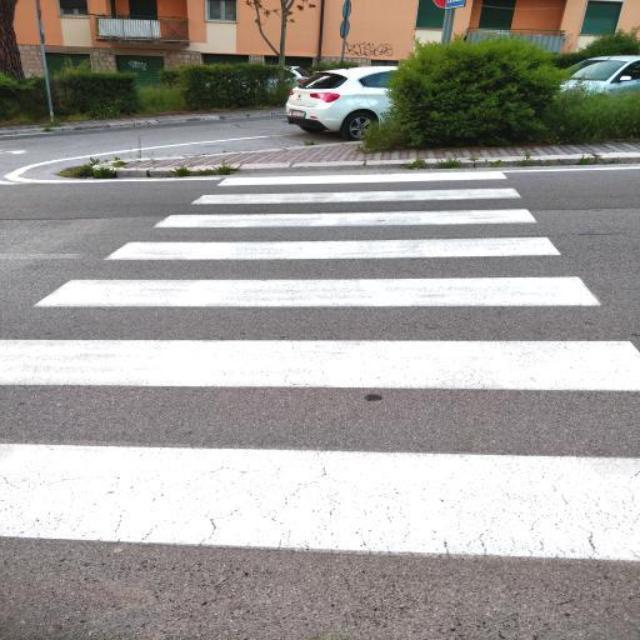sidewalk: (0, 156, 639, 640)
